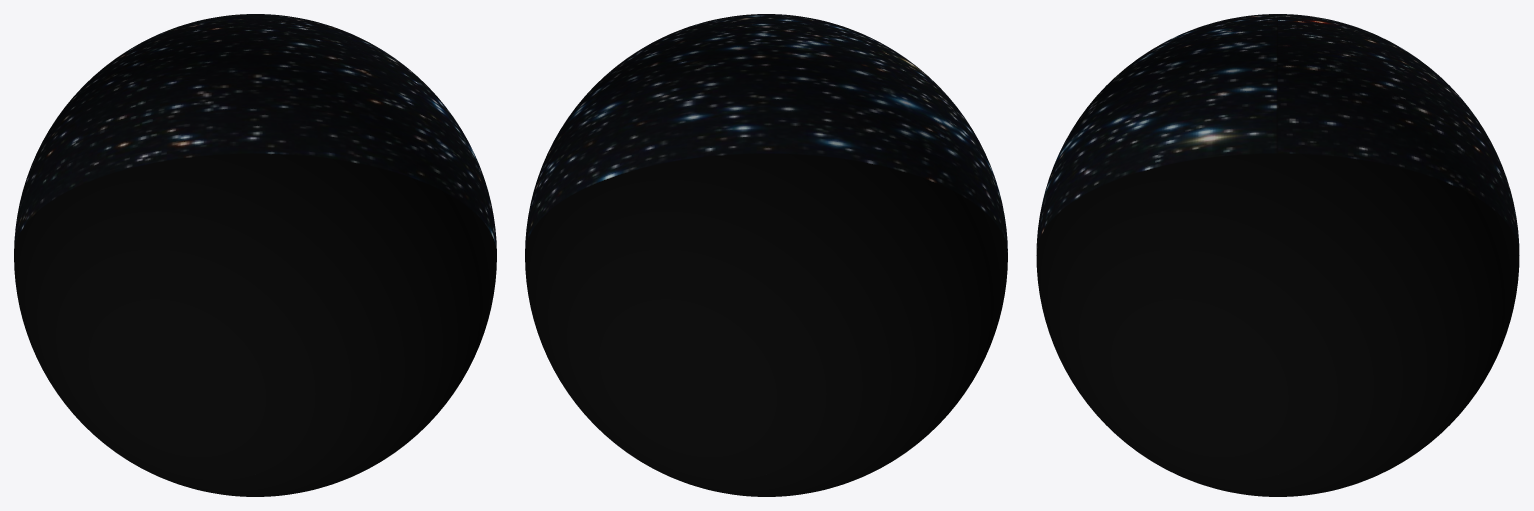
Rendered from daytime_skybox.gltf.
The picture shows the model from 3 angles, left to right: view 1: azimuth 30°, elevation 25°; view 2: azimuth 150°, elevation 25°; view 3: azimuth 270°, elevation 25°; orthographic projection.
Parts seen in each view (by area): view 1: skybox; view 2: skybox; view 3: skybox.
Boxes of the visible parts, x1=… form: skybox: x1=14, y1=14, x2=496, y2=496; skybox: x1=525, y1=14, x2=1007, y2=496; skybox: x1=1036, y1=14, x2=1519, y2=496.
Size of the model in its own units: 4000 by 4000 by 4000.
Materials: 1 (1 with a texture image).
